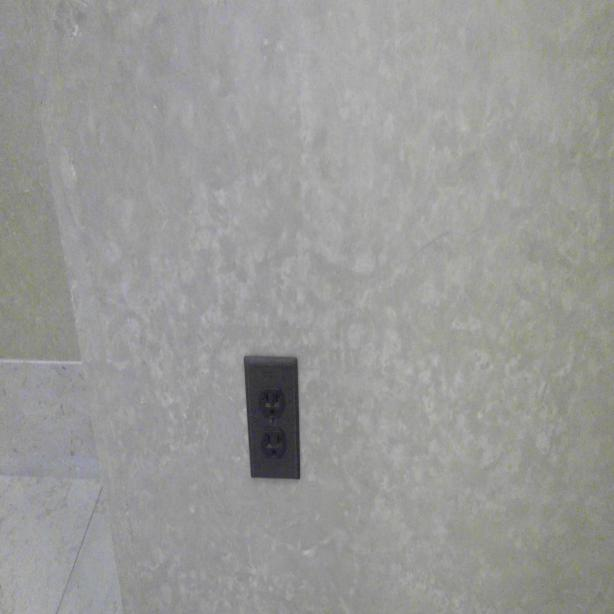typeb: (258, 385, 283, 423), (262, 432, 284, 462)
